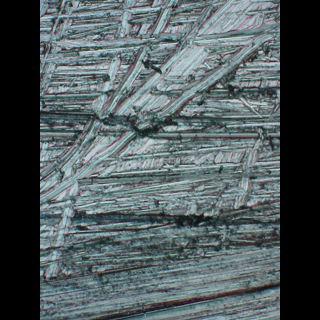d: (40, 0, 268, 211)
